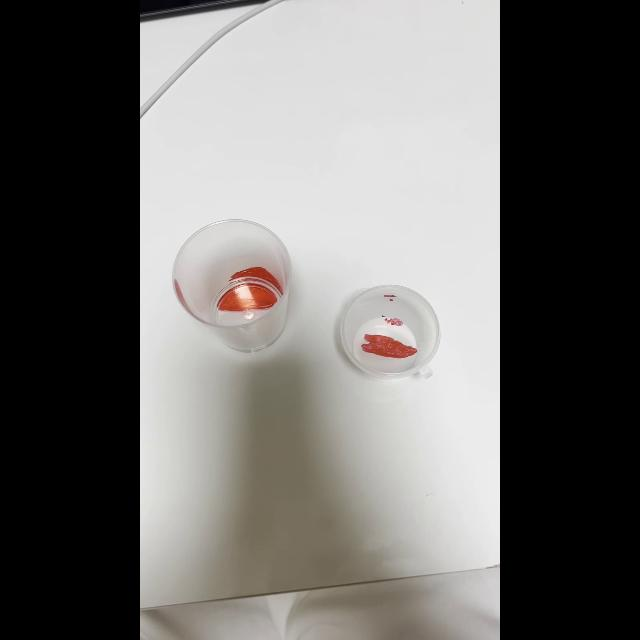dirty: (171, 216, 297, 358), (339, 284, 428, 386)
